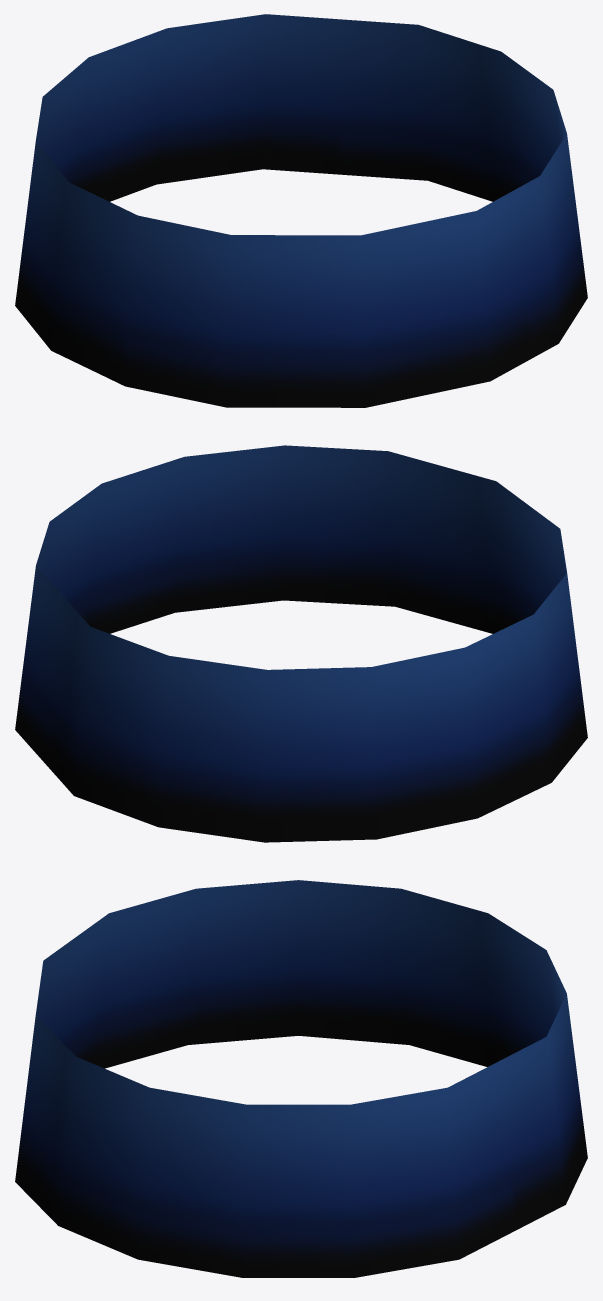
Rendered from effect_01.FBX.
3 views of the same model, one above another, from view 1: azimuth 30°, elevation 25°; view 2: azimuth 150°, elevation 25°; view 3: azimuth 270°, elevation 25° (orthographic).
Parts seen in each view (by area): view 1: effect_01; view 2: effect_01; view 3: effect_01.
Boxes of the visible parts, x1,y1,x2,y2 form: effect_01: (15, 14, 587, 407); effect_01: (15, 445, 587, 842); effect_01: (15, 880, 587, 1277).
Size of the model in its own units: 179 by 59.38 by 179.
